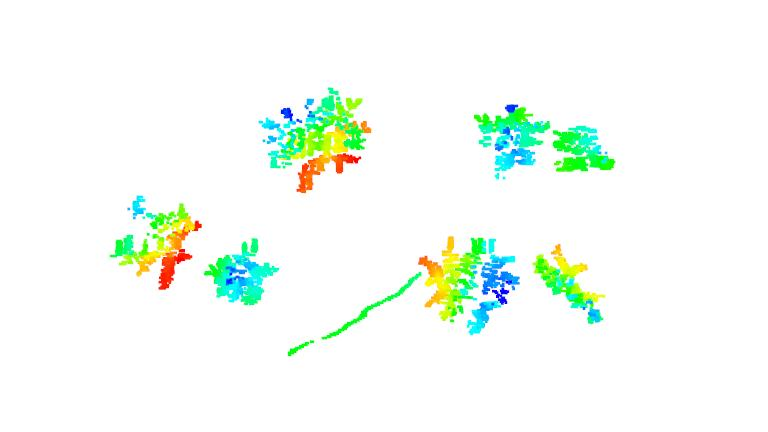chickpea: (259, 91, 376, 192), (416, 236, 525, 339), (108, 197, 199, 294), (534, 243, 605, 324), (471, 102, 552, 171), (202, 237, 280, 306), (549, 123, 616, 178)
